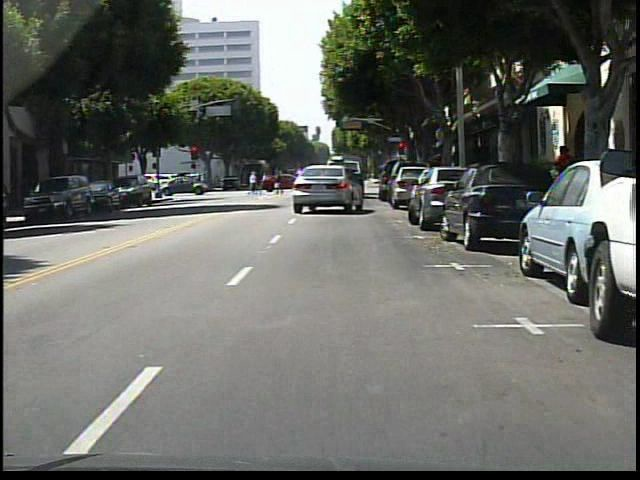person: (553, 142, 580, 207), (275, 168, 287, 196), (249, 171, 262, 196), (262, 173, 268, 189)
